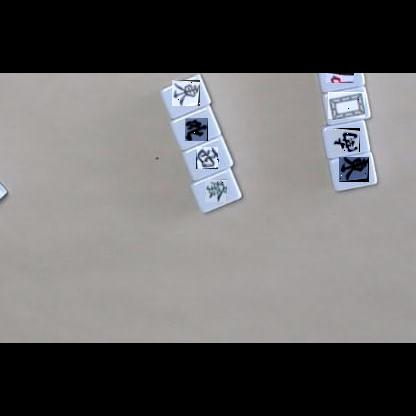1z: (172, 80, 200, 107), (339, 157, 369, 182)
2z: (332, 128, 360, 152)
3z: (196, 147, 218, 169)
4z: (185, 118, 208, 141)
5z: (328, 92, 365, 119)
6z: (205, 179, 227, 202)
7z: (326, 73, 354, 83)
